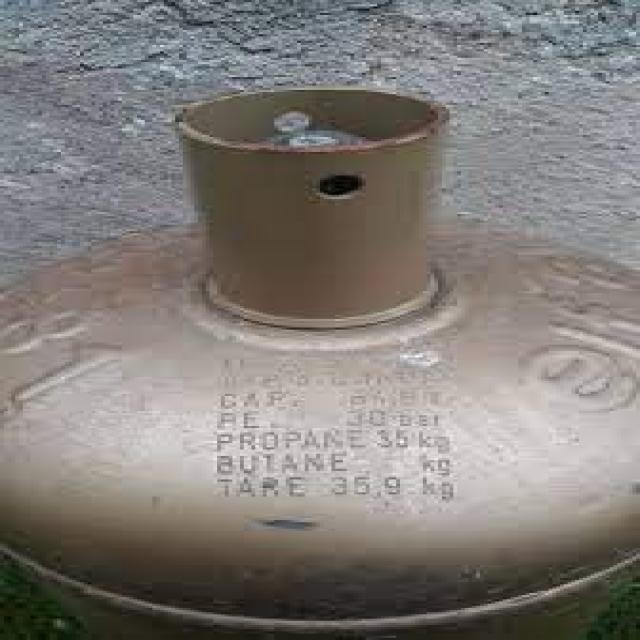ocr: (210, 428, 371, 454), (330, 475, 458, 503), (214, 451, 352, 474), (218, 476, 310, 500), (348, 408, 444, 430), (373, 430, 457, 452), (209, 389, 295, 410), (211, 412, 271, 430), (416, 453, 458, 474)
